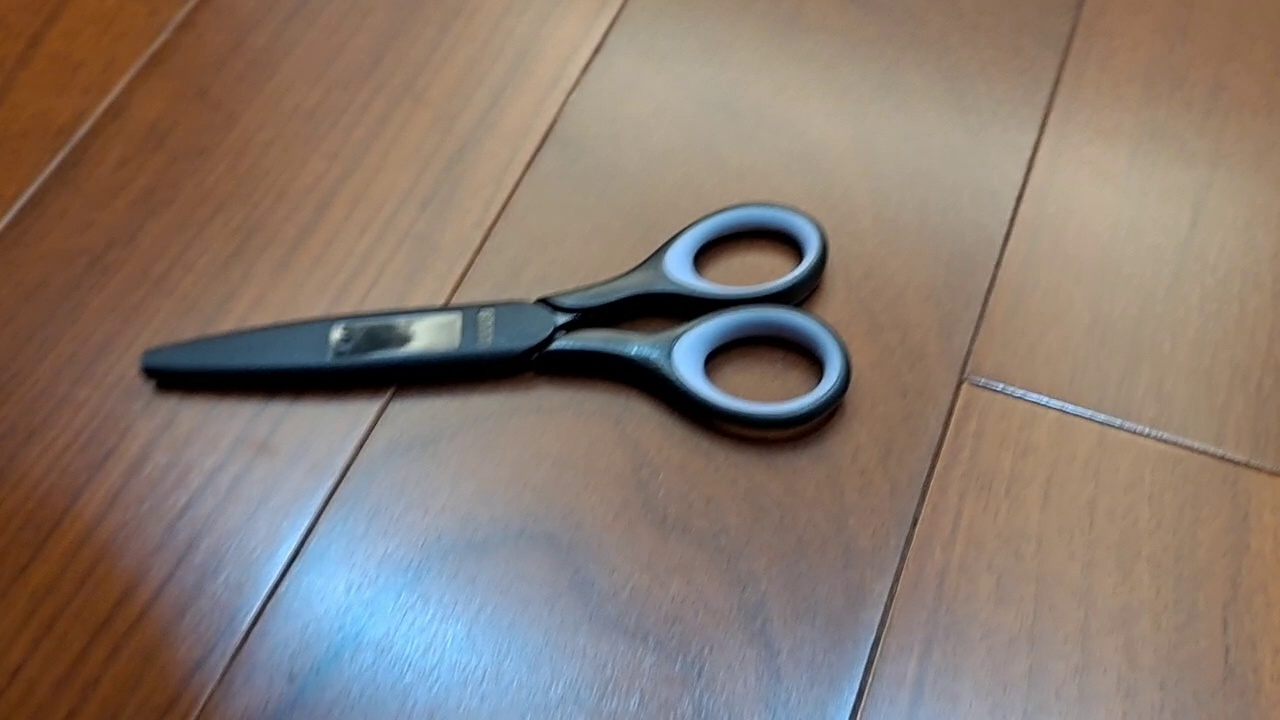scissors: (137, 197, 853, 436)
